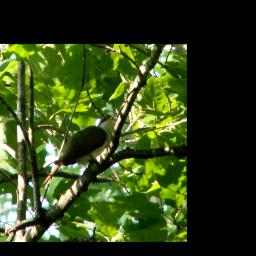Cuckoo: (39, 112, 120, 189)
